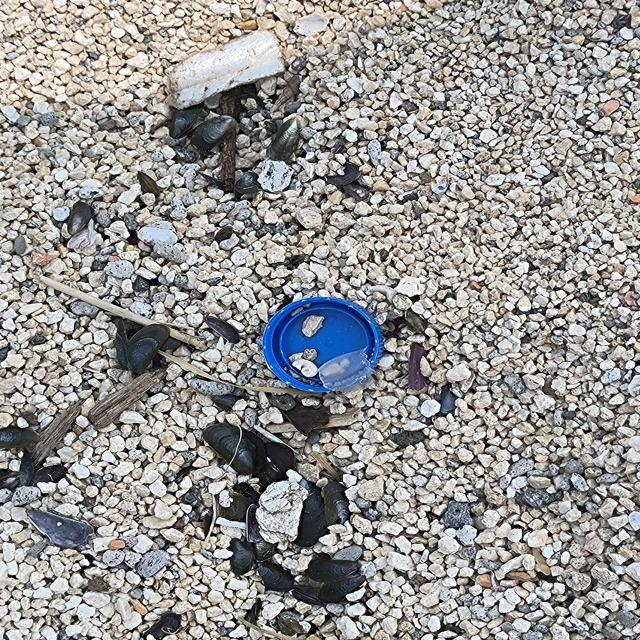plastic_waste: (262, 298, 387, 395)
styrofoam_waste: (164, 30, 288, 112)
